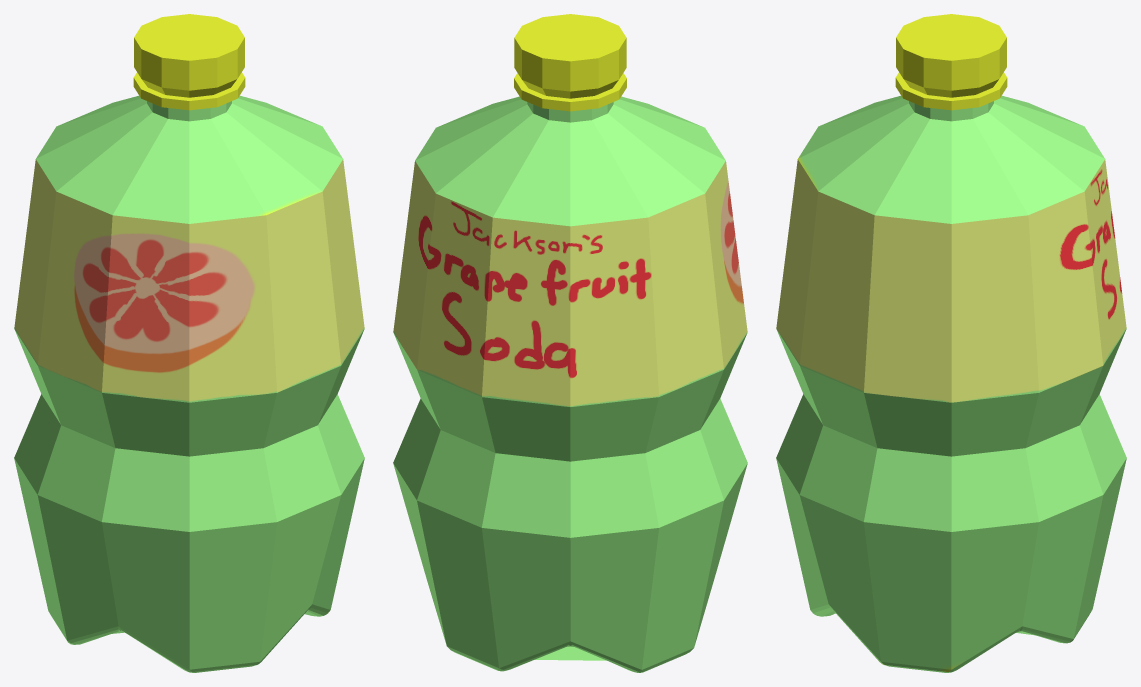
Rendered from sqrit.fbx.
3 renders of one model, left to right at view 1: azimuth 30°, elevation 25°; view 2: azimuth 150°, elevation 25°; view 3: azimuth 270°, elevation 25°, orthographic.
Parts seen in each view (by area): view 1: Cylinder; view 2: Cylinder; view 3: Cylinder.
Boxes of the visible parts, box(x1,y1,x2,y2) form: Cylinder: box(14, 14, 364, 672); Cylinder: box(393, 14, 747, 672); Cylinder: box(776, 14, 1126, 672).
Bounding box in the file's own units: 176 × 322 × 176.
Materials: 1 (1 with a texture image).
